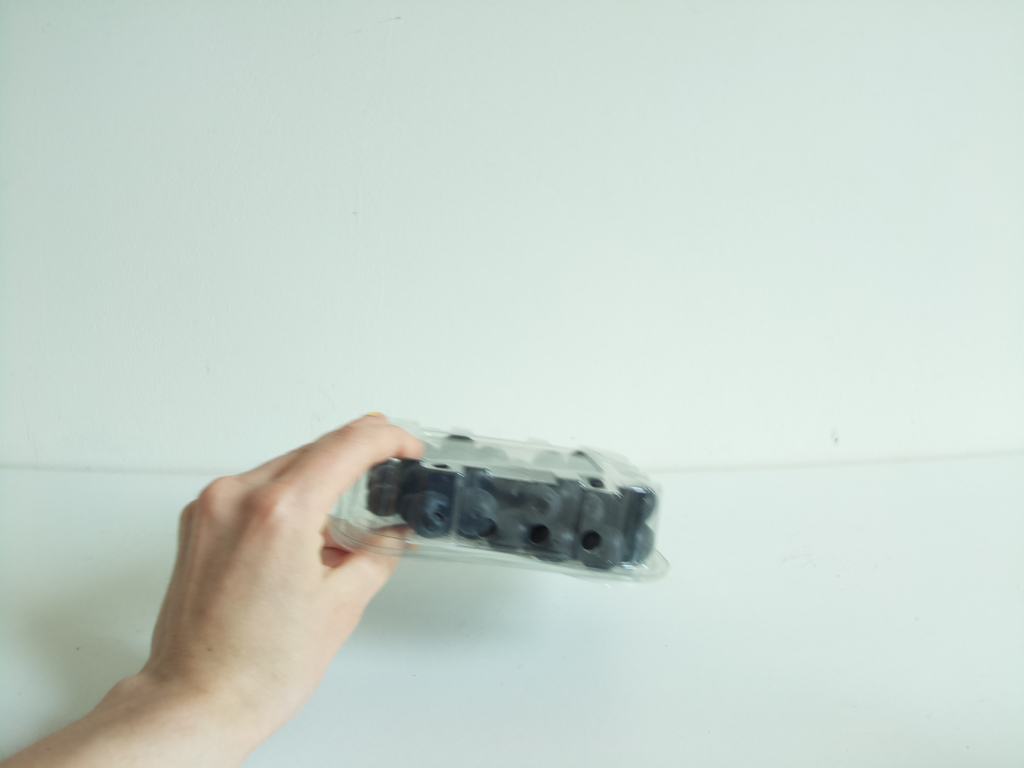soft-fruit: (359, 431, 663, 582)
